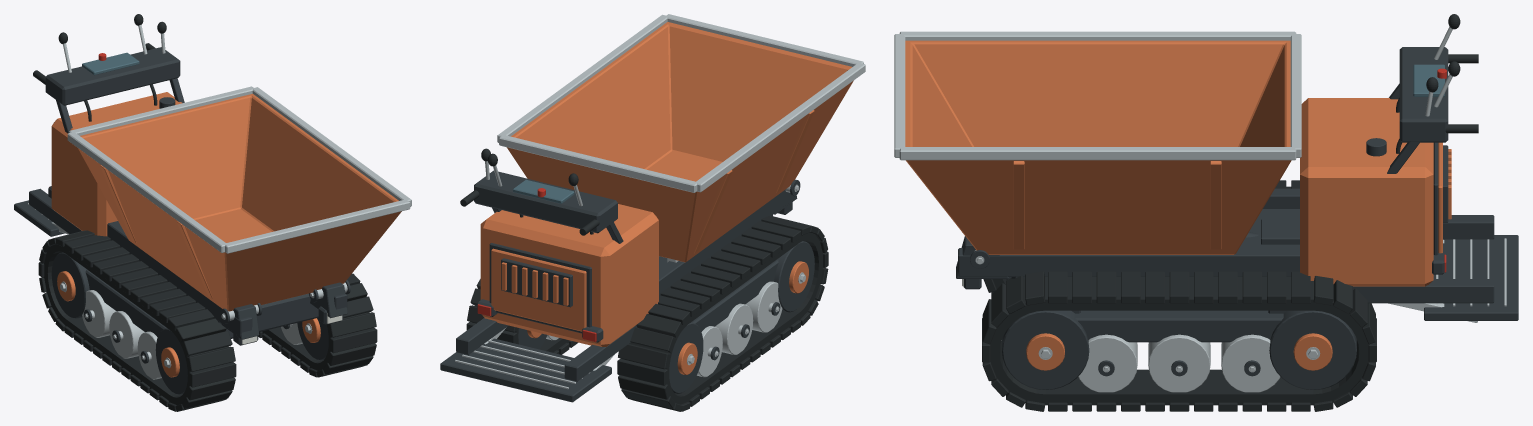
File: city-tracked-dump-carrier.glb
The picture shows the model from 3 angles, left to right: view 1: azimuth 30°, elevation 25°; view 2: azimuth 150°, elevation 25°; view 3: azimuth 270°, elevation 25°; orthographic projection. The views are drawn at different scales.
Visible parts, largest first — view 1: Assembly | Muted vermilion dumper enamel, Assembly | Charcoal tire and flexible skirt, Assembly | Graphite chassis steel, Assembly | Satin zinc and machined hardware, Assembly | Opaque blue grey glazing appearance; view 2: Assembly | Muted vermilion dumper enamel, Assembly | Graphite chassis steel, Assembly | Charcoal tire and flexible skirt, Assembly | Satin zinc and machined hardware, Assembly | Opaque blue grey glazing appearance; view 3: Assembly | Muted vermilion dumper enamel, Assembly | Graphite chassis steel, Assembly | Charcoal tire and flexible skirt, Assembly | Satin zinc and machined hardware, Assembly | Opaque blue grey glazing appearance.
Boxes of the visible parts, x1,y1,x2,y2 form: Assembly | Muted vermilion dumper enamel: [51, 92, 401, 377]; Assembly | Charcoal tire and flexible skirt: [33, 14, 377, 411]; Assembly | Graphite chassis steel: [14, 47, 350, 394]; Assembly | Satin zinc and machined hardware: [28, 25, 411, 379]; Assembly | Opaque blue grey glazing appearance: [82, 52, 139, 75]; Assembly | Muted vermilion dumper enamel: [480, 22, 853, 374]; Assembly | Graphite chassis steel: [440, 170, 814, 402]; Assembly | Charcoal tire and flexible skirt: [460, 148, 828, 411]; Assembly | Satin zinc and machined hardware: [455, 14, 865, 389]; Assembly | Opaque blue grey glazing appearance: [513, 179, 574, 203]; Assembly | Muted vermilion dumper enamel: [905, 40, 1451, 370]; Assembly | Graphite chassis steel: [956, 47, 1518, 389]; Assembly | Charcoal tire and flexible skirt: [982, 14, 1478, 411]; Assembly | Satin zinc and machined hardware: [894, 27, 1506, 392]; Assembly | Opaque blue grey glazing appearance: [1413, 64, 1444, 96].
Size of the model in its own units: 1.17 by 1.43 by 2.57.
